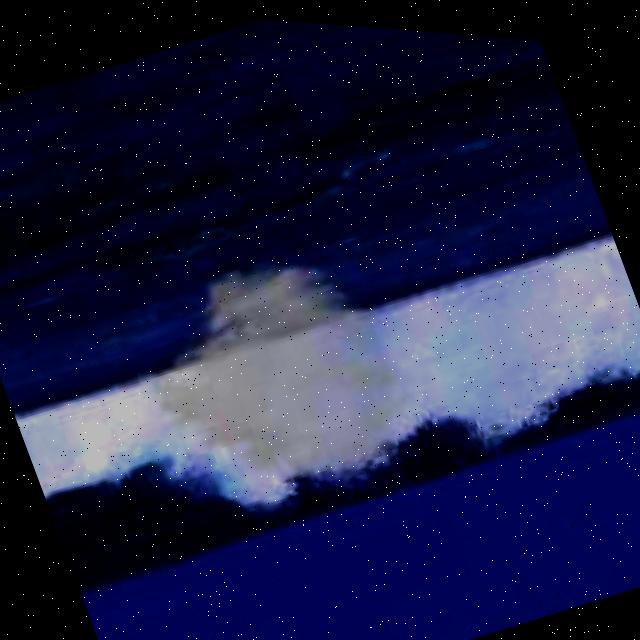Smoke: (98, 203, 441, 540)
